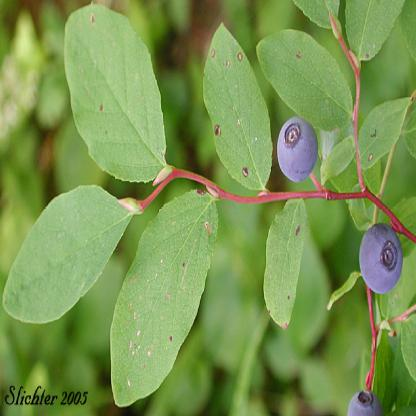blueberry leaf: (106, 181, 223, 415), (1, 177, 133, 334), (64, 3, 174, 185), (192, 14, 274, 193), (251, 20, 357, 135), (257, 195, 310, 349), (358, 94, 414, 179)
